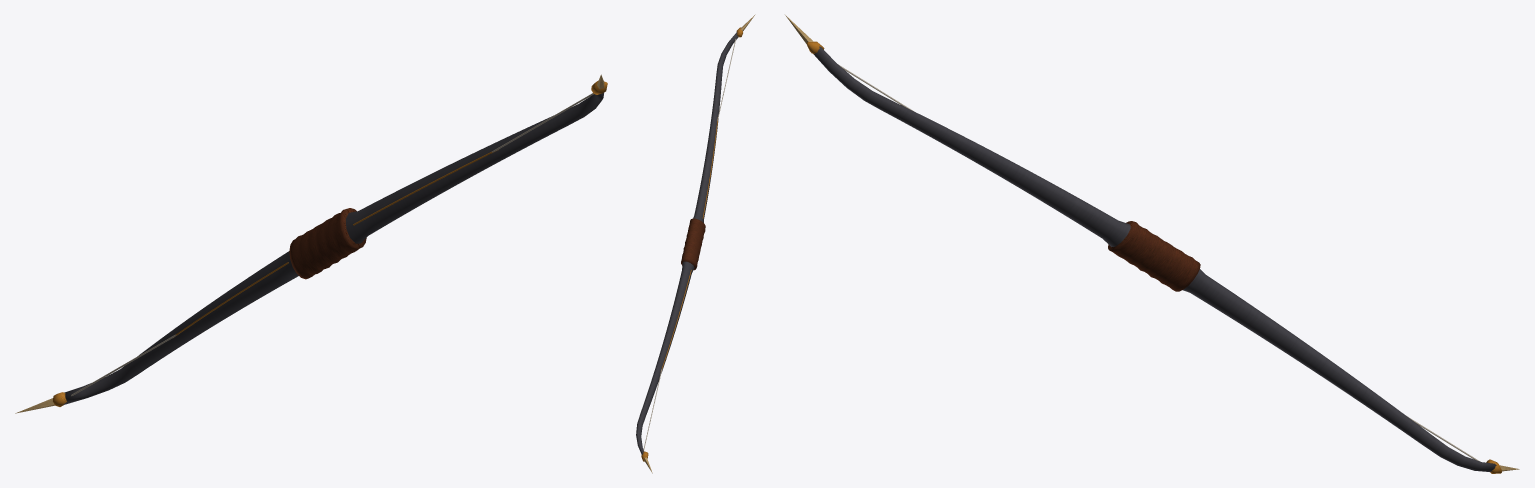
File: weapon_spite_wicker.glb
3 views of the same model, side by side, from view 1: azimuth 30°, elevation 25°; view 2: azimuth 150°, elevation 25°; view 3: azimuth 270°, elevation 25° (orthographic). The views are drawn at different scales.
Parts seen in each view (by area): view 1: spite_wicker; view 2: spite_wicker; view 3: spite_wicker.
Boxes of the visible parts, x1,y1,x2,y2 form: spite_wicker: (15,74,607,413); spite_wicker: (636,14,755,473); spite_wicker: (785,15,1519,473).
Size of the model in its own units: 0.3245 by 0.8133 by 1.
5 materials, 4 textured.
